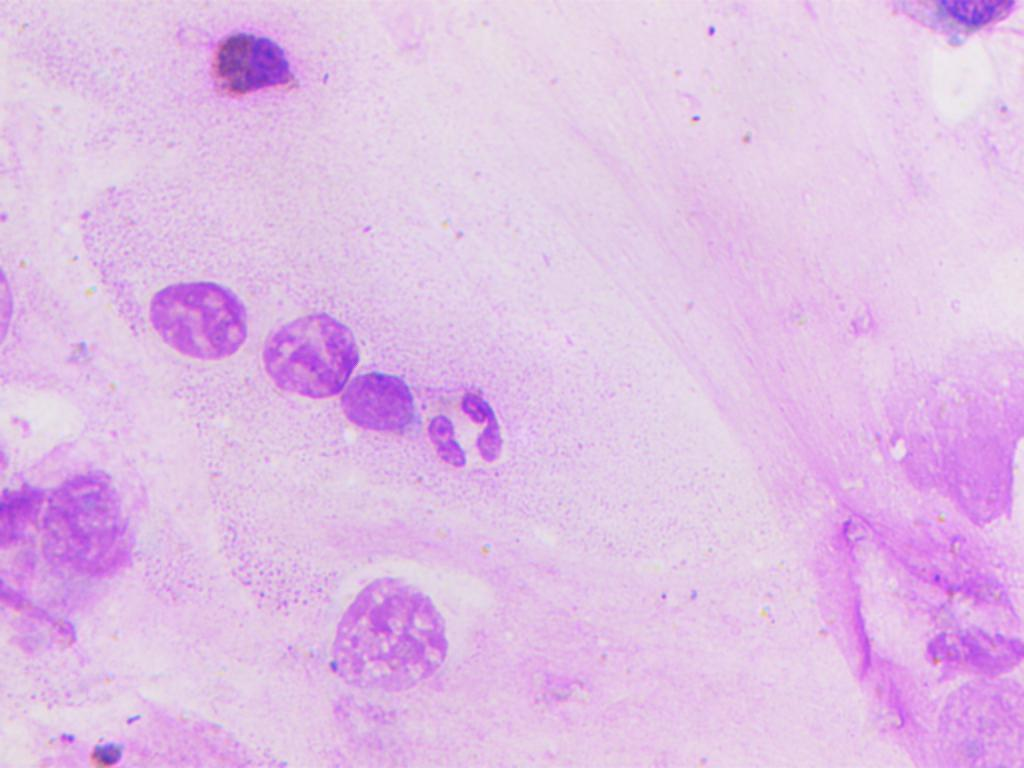artifact: (762, 350, 1024, 768)
epithelial: (295, 564, 479, 704), (174, 8, 322, 121), (34, 445, 142, 595), (868, 0, 1024, 56), (260, 311, 359, 398), (149, 281, 246, 361), (337, 372, 415, 429)
neutrophil: (420, 379, 506, 476)
